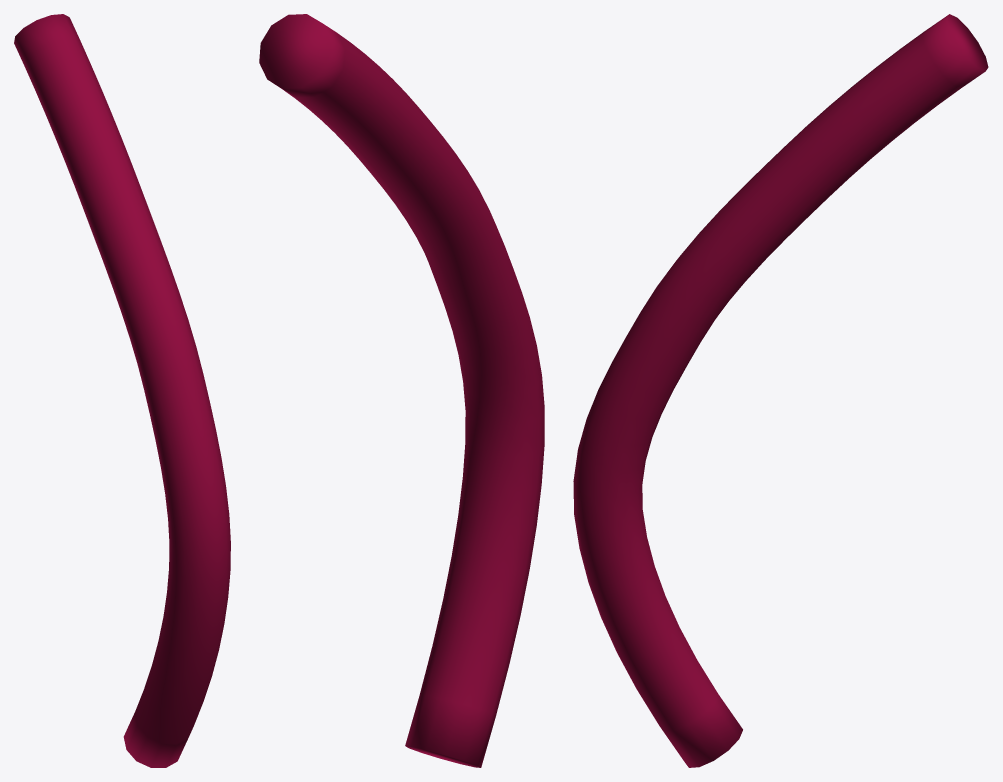
The model's file is droga_006.obj.
3 renders of one model, left to right at view 1: azimuth 30°, elevation 25°; view 2: azimuth 150°, elevation 25°; view 3: azimuth 270°, elevation 25°, orthographic. The views are drawn at different scales.
Visible parts, largest first — view 1: DROGA_005; view 2: DROGA_005; view 3: DROGA_005.
Part boxes in pixels (x1,y1,x2,y2): DROGA_005: [14, 14, 230, 767]; DROGA_005: [259, 14, 544, 767]; DROGA_005: [573, 14, 988, 767].
Bounding box in the file's own units: 0.2648 × 3.02 × 1.52.
